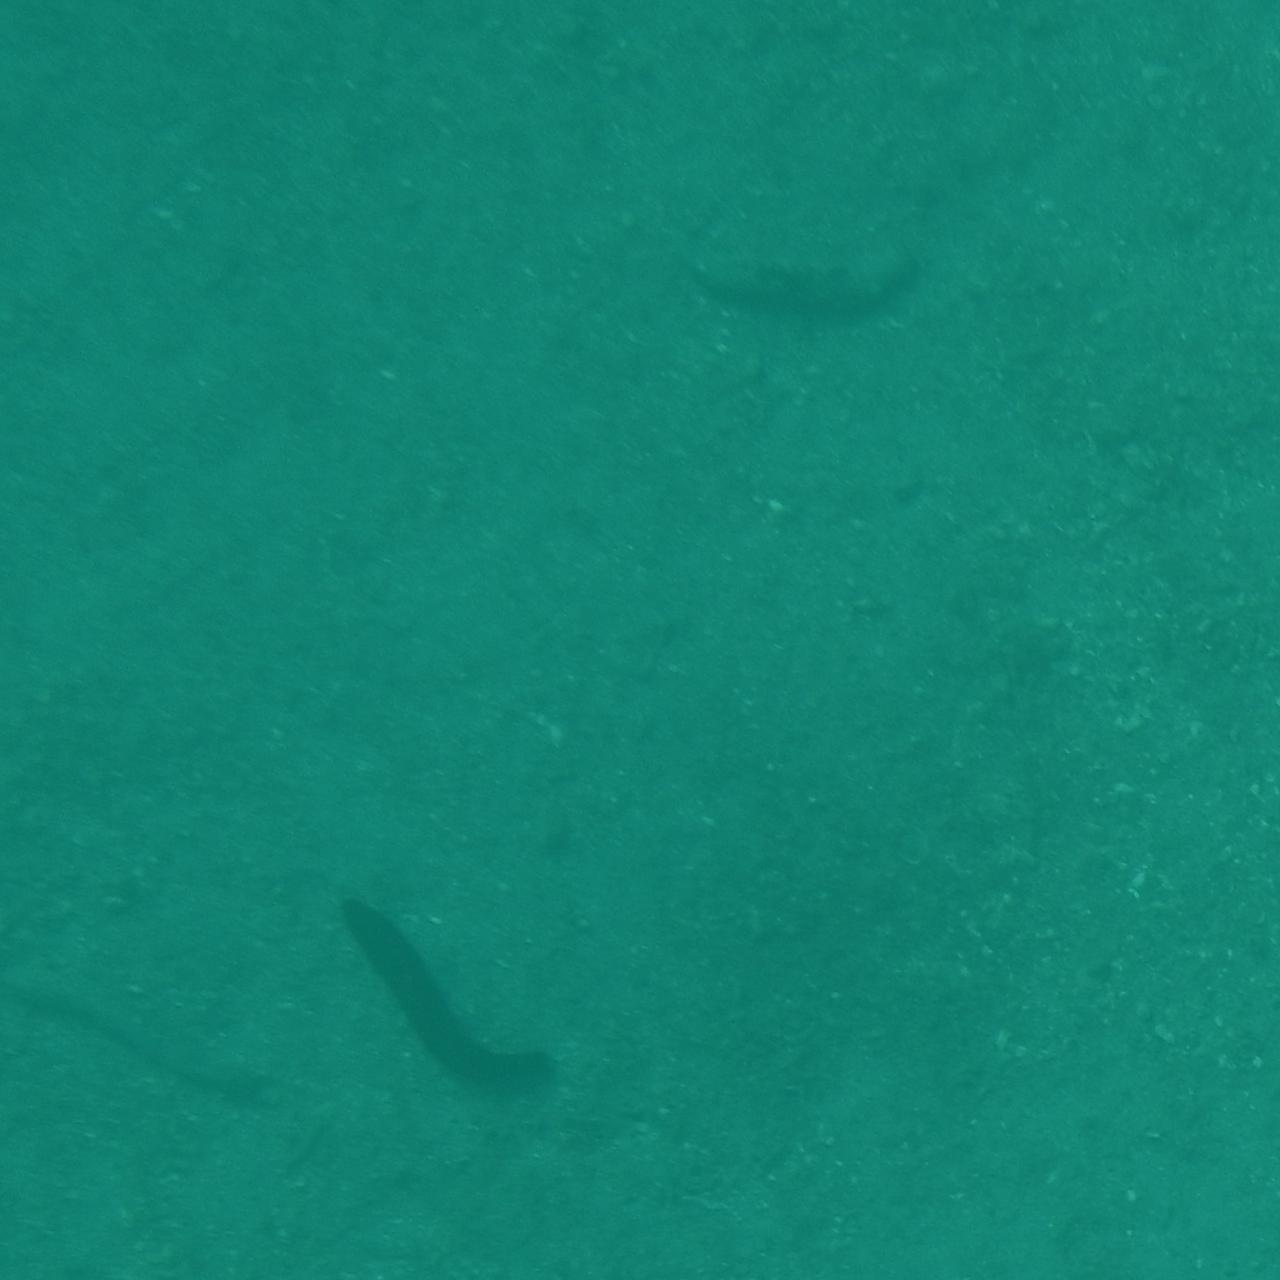Holothuria tubulosa: (343, 898, 568, 1114), (683, 223, 967, 326)
